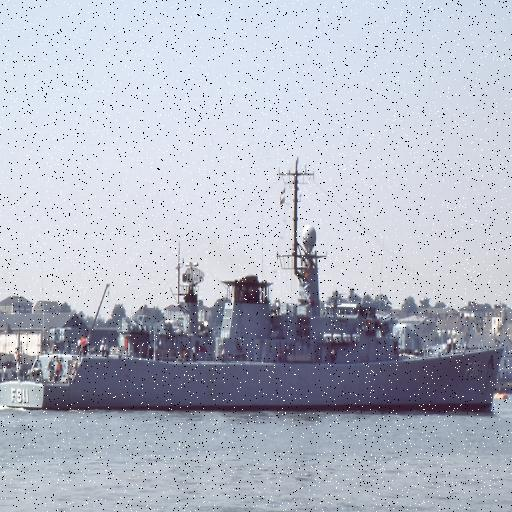Fragata: (1, 150, 509, 415)
